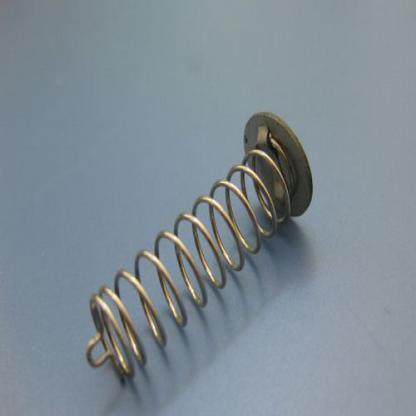FOD: (78, 129, 298, 381)
